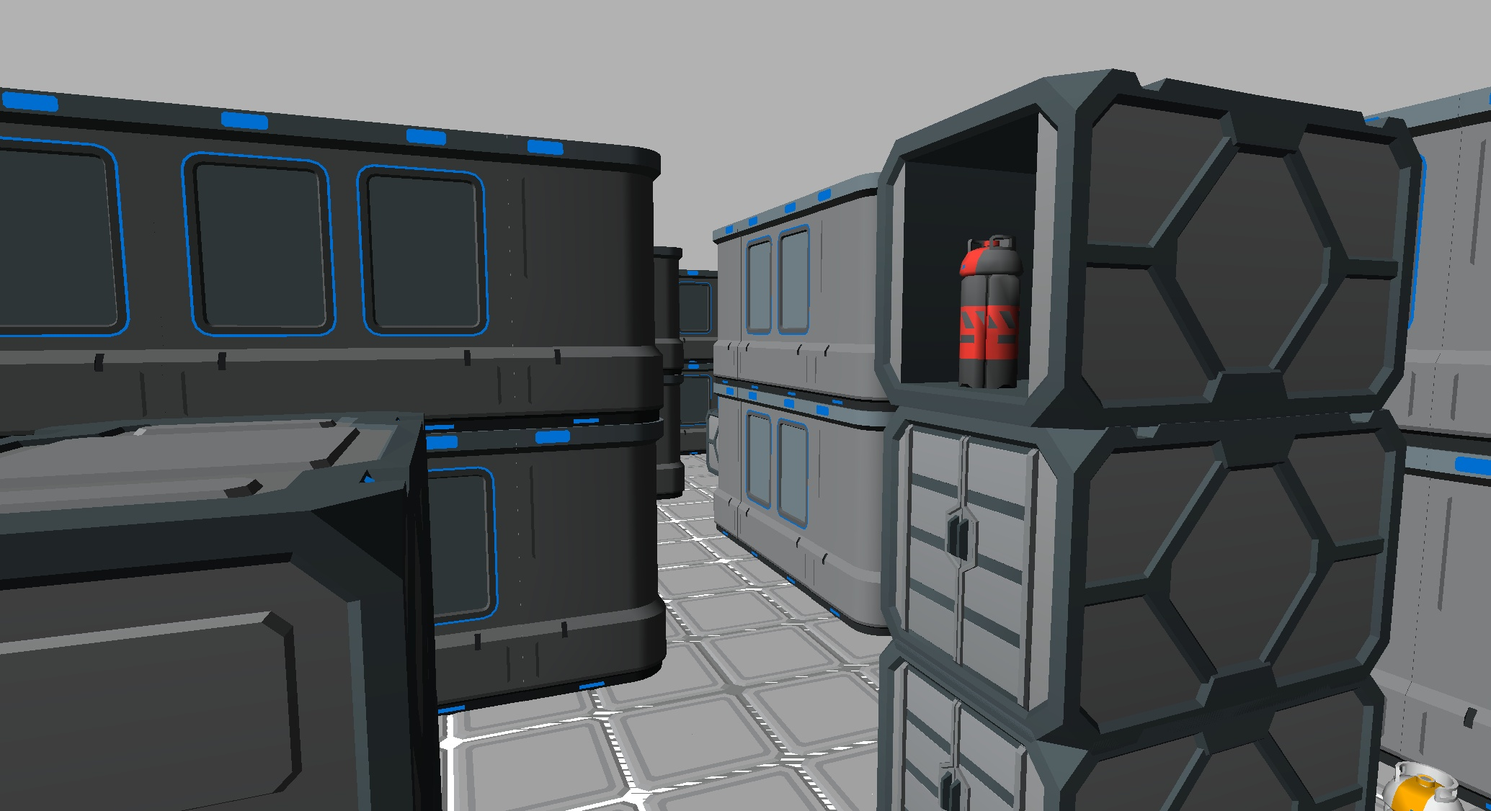red_barrel: (976, 235, 1023, 387), (958, 243, 989, 387)
yellow_barrel: (1377, 761, 1473, 810)
